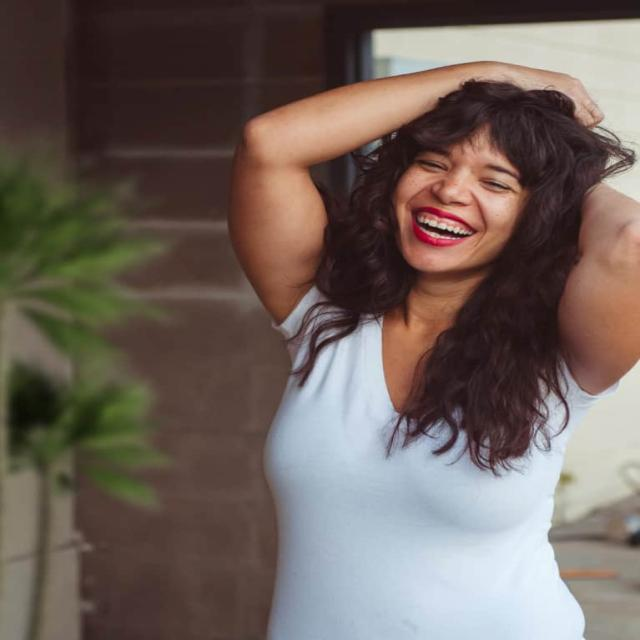human: (202, 54, 640, 640)
